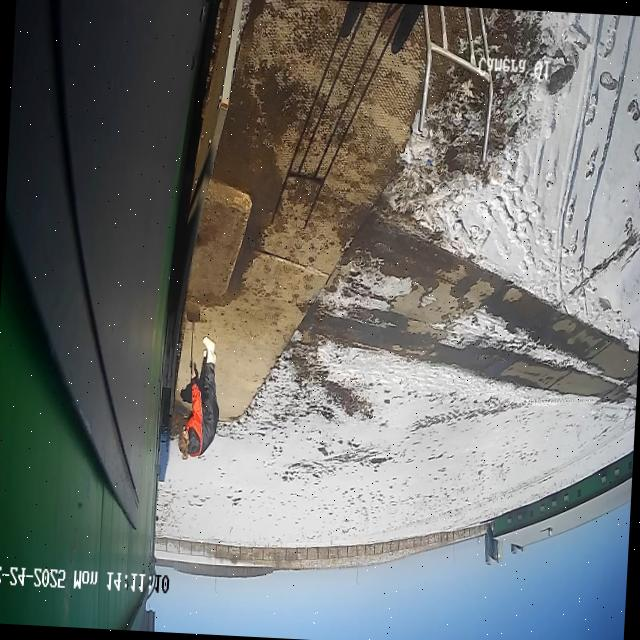Red uniform: (175, 333, 225, 464)
